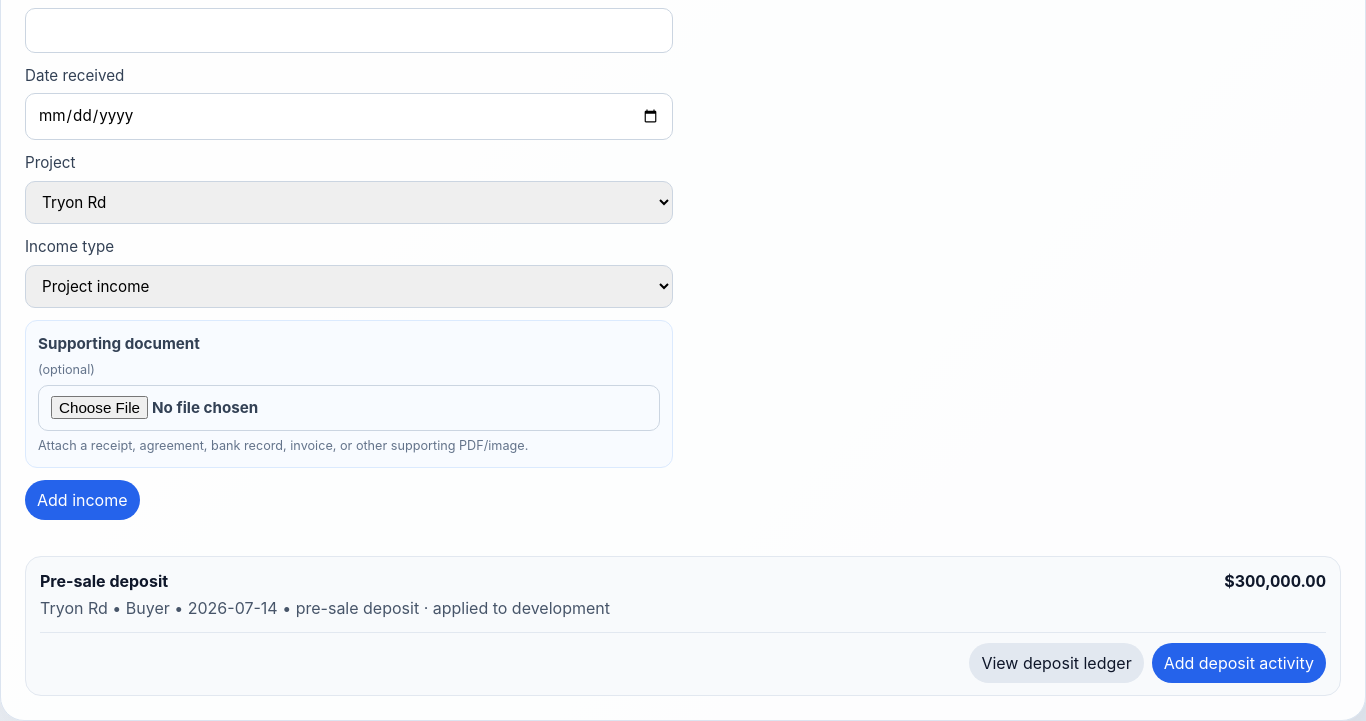
IncomeSection › offers a non-monetary cancellation activity and requires its signed document
This screenshot has width=1366, height=721.
(page scrolled)
Click the button "Add deposit activity" at [1239, 663], box x1=1152 y1=643 x2=1326 y2=683
(page scrolled)
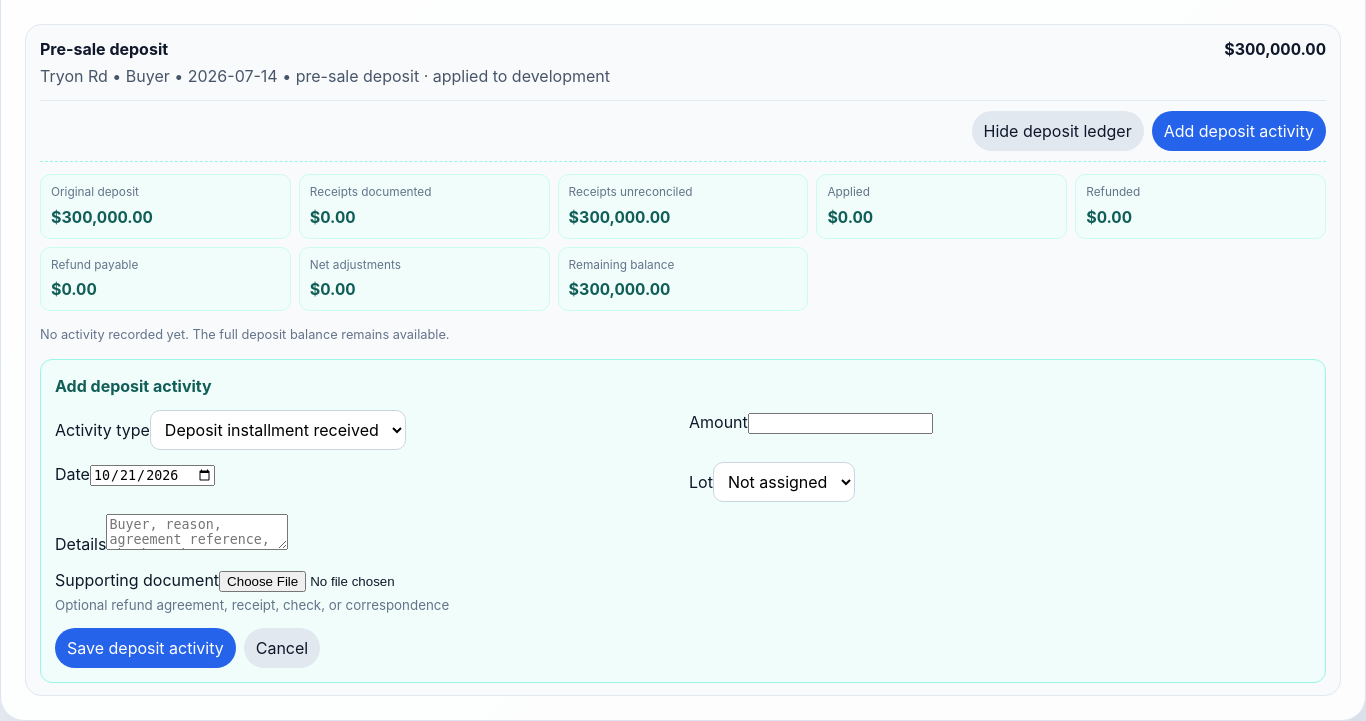
Select "Agreement cancelled" in the dropdown named "Deposit activity type" at [278, 430], box x1=150 y1=410 x2=406 y2=450
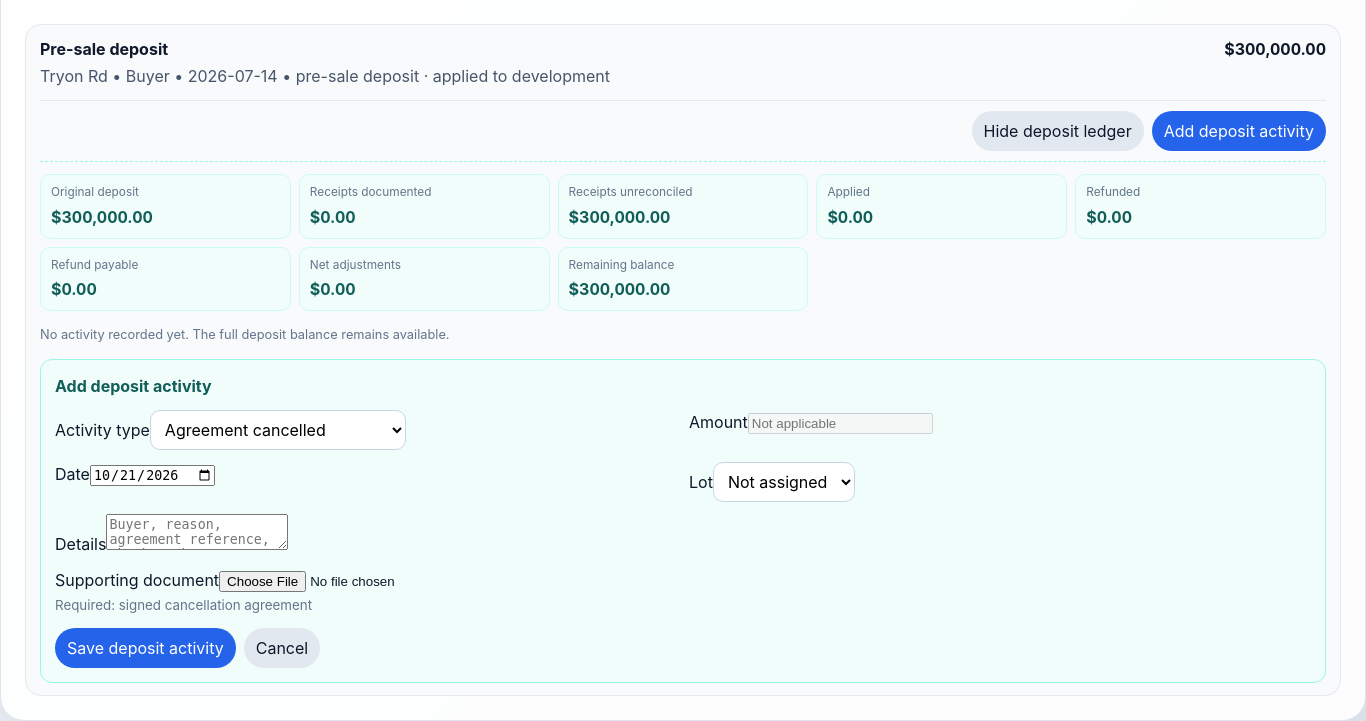
Now the number field named "Deposit activity amount" is disabled, box x1=748 y1=413 x2=933 y2=434
Now the text "Required: signed cancellation agreement" is shown, box x1=55 y1=597 x2=312 y2=613
Type "2026-08-18" into the date field named "Deposit activity date" at [153, 475], box x1=90 y1=464 x2=215 y2=486
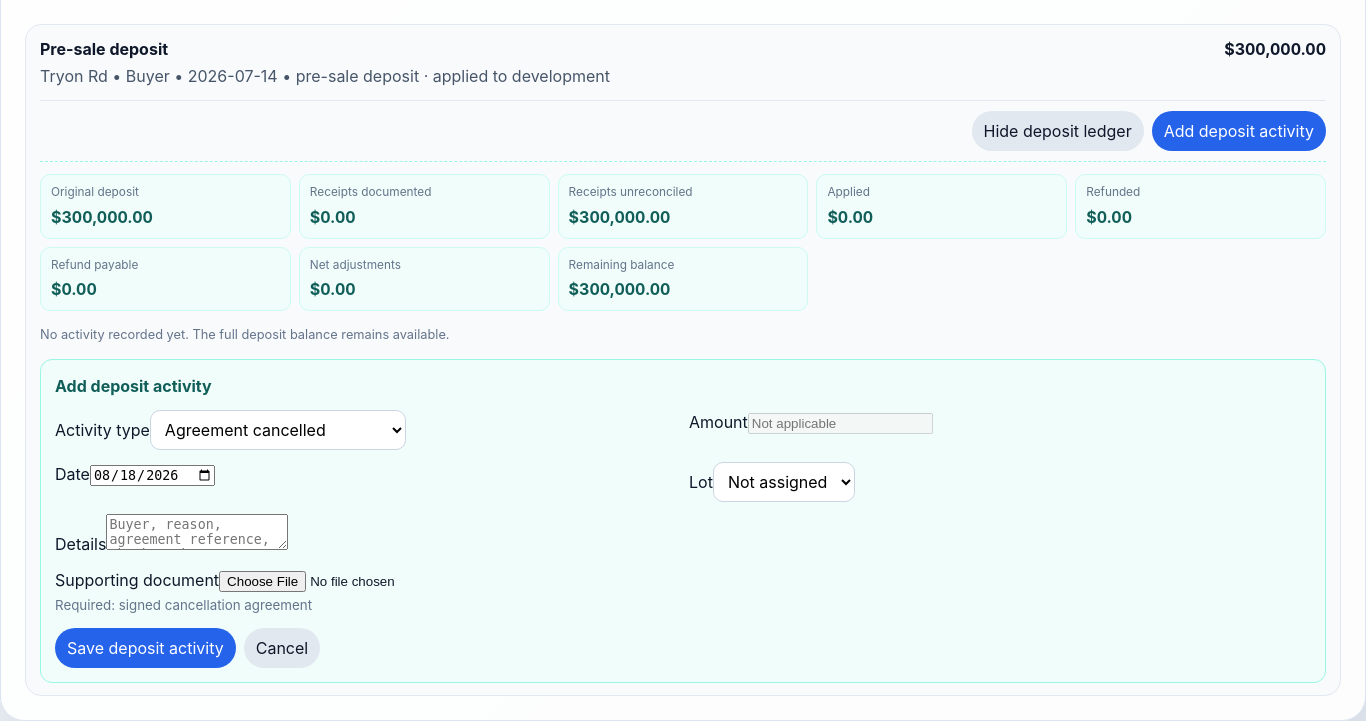
Replace the text in the text box named "Deposit activity details" with "Buyer signed cancellation agreement" at [197, 532], box x1=106 y1=514 x2=288 y2=550
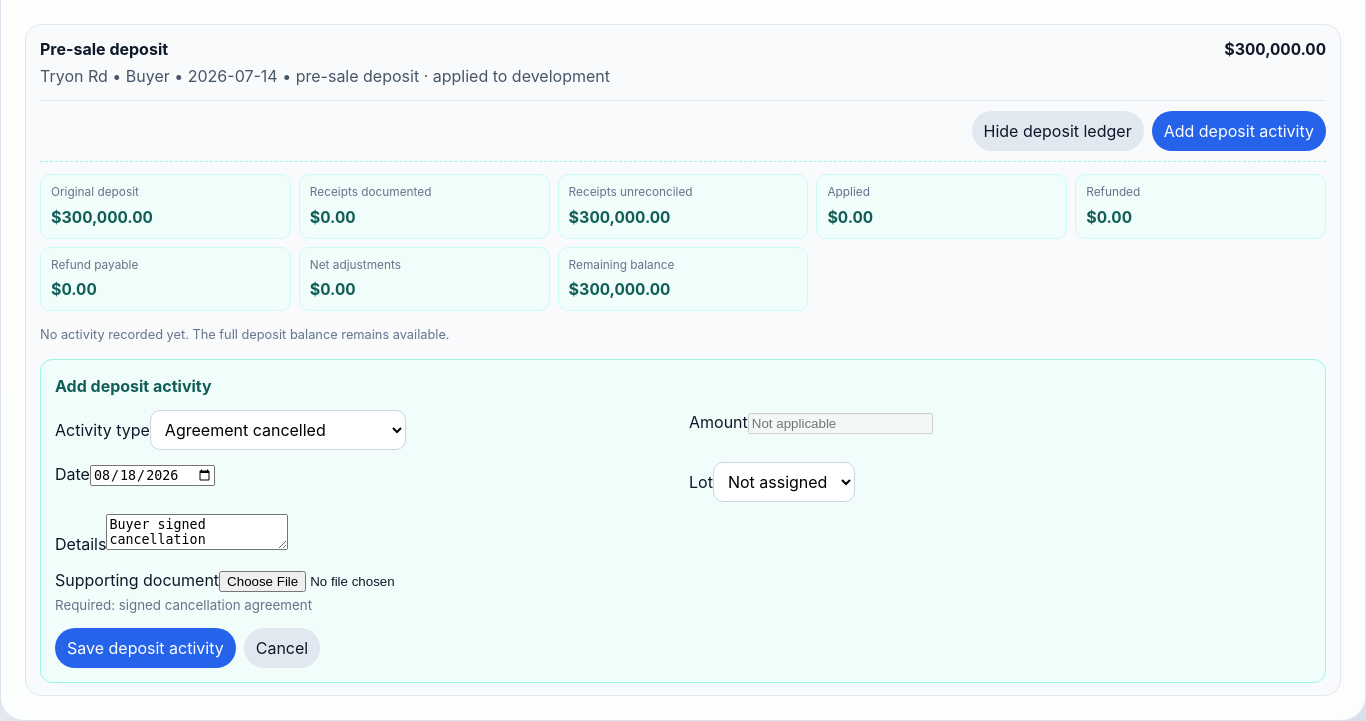
Click the button "Save deposit activity" at [145, 648], box x1=55 y1=628 x2=236 y2=668
(page scrolled)
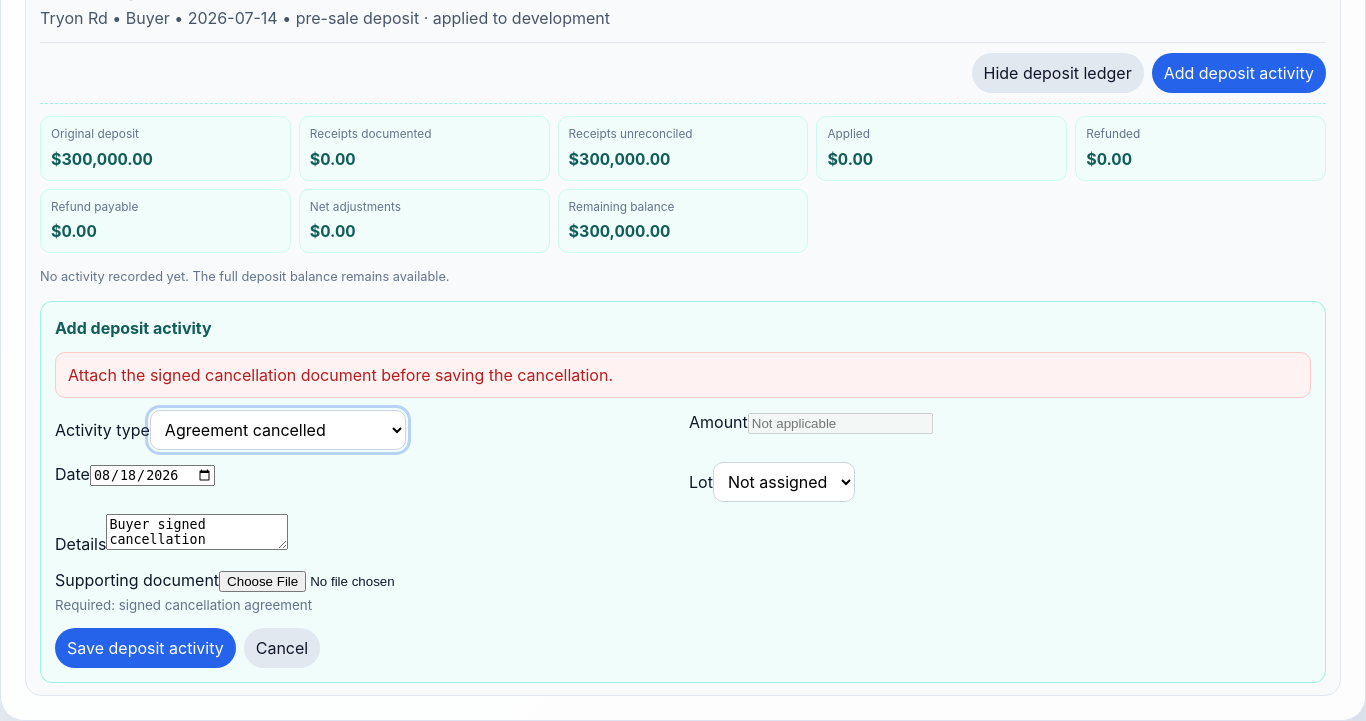
Now the message shows "Attach the signed cancellation document", box x1=68 y1=365 x2=613 y2=385
